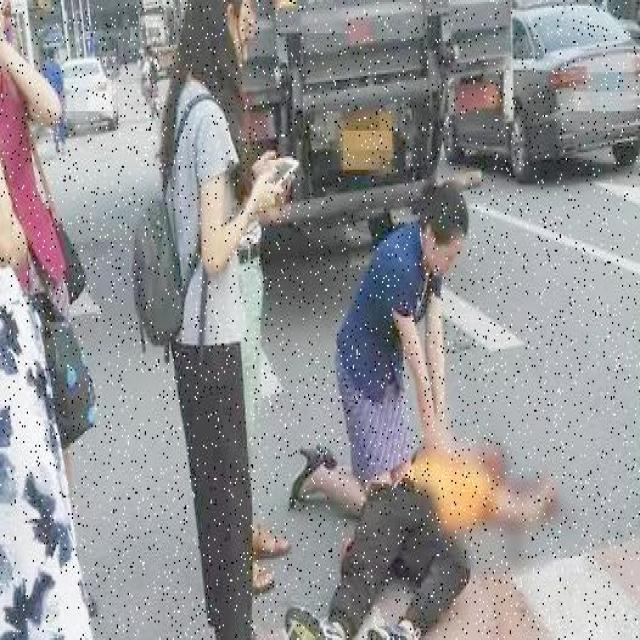fall: (338, 418, 533, 638)
